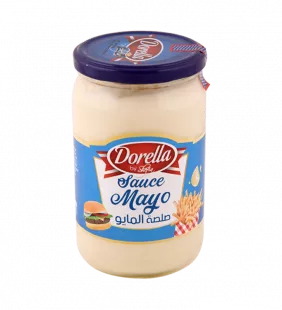DORELLA: (60, 20, 220, 284)
